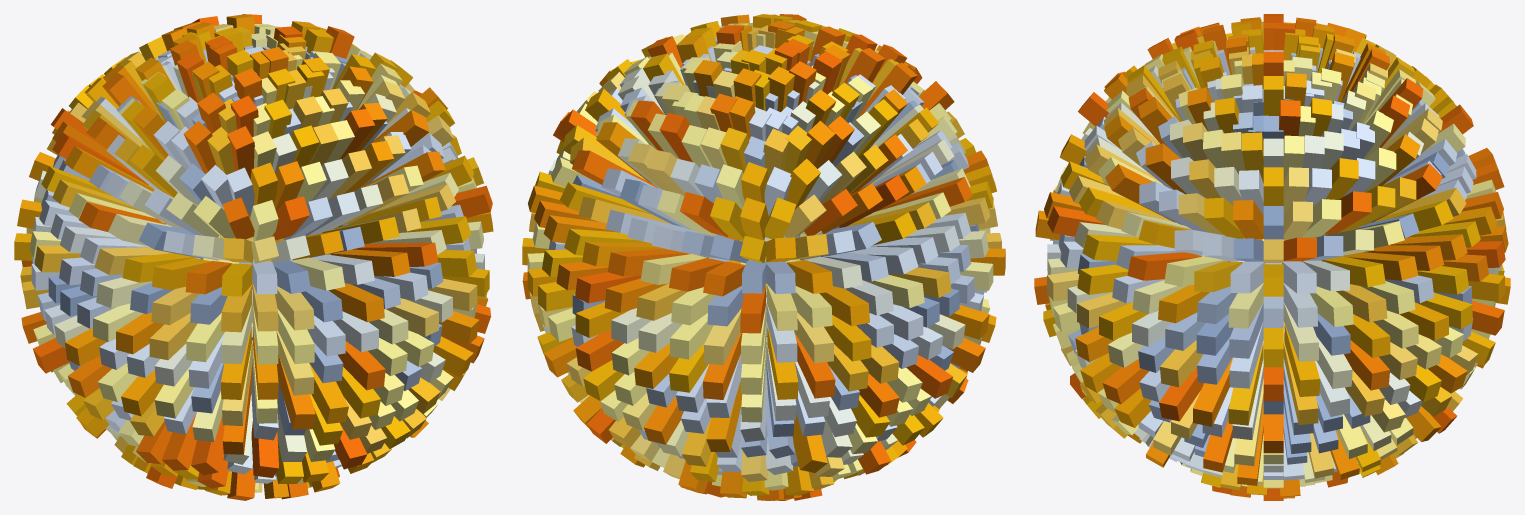
The model's file is objtask_eachcenter_dir.glb.
The picture shows the model from 3 angles, left to right: view 1: azimuth 30°, elevation 25°; view 2: azimuth 150°, elevation 25°; view 3: azimuth 270°, elevation 25°; orthographic projection.
Parts seen in each view (by area): view 1: Object_dir_0.0_-0.988_-0.156, Object_dir_0.0_-0.988_0.156, Object_dir_-0.809_-0.588_0.0, Object_dir_-0.294_-0.904_-0.309, Object_dir_0.149_-0.94_0.306, Object_dir_-0.149_-0.94_-0.306, Object_dir_-0.891_-0.454_-0.0, Object_dir_-0.799_-0.581_0.156, Object_dir_-0.305_-0.939_0.156, Object_dir_0.0_-0.951_-0.309, Object_dir_-0.707_-0.707_0.0, Object_dir_-0.848_-0.432_-0.306 (+158 smaller); view 2: Object_dir_-0.809_0.588_0.0, Object_dir_-0.699_0.699_-0.155, Object_dir_-0.799_0.581_0.156, Object_dir_-0.305_0.939_-0.156, Object_dir_0.149_0.94_0.306, Object_dir_-0.309_0.951_-0.0, Object_dir_-0.156_0.988_-0.0, Object_dir_-0.574_0.574_-0.583, Object_dir_0.0_0.988_-0.156, Object_dir_-0.707_0.707_0.0, Object_dir_0.305_0.939_-0.156, Object_dir_-0.275_0.847_-0.454 (+161 smaller); view 3: Object_dir_0.904_-0.294_-0.309, Object_dir_0.848_-0.432_-0.306, Object_dir_0.88_0.449_-0.155, Object_dir_0.891_0.454_-0.0, Object_dir_0.769_-0.559_0.309, Object_dir_0.88_-0.449_0.155, Object_dir_0.88_-0.449_-0.155, Object_dir_0.673_-0.673_-0.306, Object_dir_0.939_0.305_0.156, Object_dir_0.88_0.449_0.155, Object_dir_0.559_-0.769_0.309, Object_dir_0.94_-0.149_-0.306 (+155 smaller).
Part boxes in pixels (x1,y1,x2,y2): Object_dir_0.0_-0.988_-0.156: (338,341,385,390); Object_dir_0.0_-0.988_0.156: (329,283,384,322); Object_dir_-0.809_-0.588_0.0: (149,313,197,360); Object_dir_-0.294_-0.904_-0.309: (277,354,315,429); Object_dir_0.149_-0.94_0.306: (330,249,410,276); Object_dir_-0.149_-0.94_-0.306: (309,363,348,423); Object_dir_-0.891_-0.454_-0.0: (116,312,163,354); Object_dir_-0.799_-0.581_0.156: (151,286,199,325); Object_dir_-0.305_-0.939_0.156: (275,286,314,330); Object_dir_0.0_-0.951_-0.309: (336,367,380,418); Object_dir_-0.707_-0.707_0.0: (186,313,224,362); Object_dir_-0.848_-0.432_-0.306: (121,369,163,416); Object_dir_-0.809_0.588_0.0: (824,315,871,361); Object_dir_-0.699_0.699_-0.155: (794,333,835,398); Object_dir_-0.799_0.581_0.156: (819,286,869,326); Object_dir_-0.305_0.939_-0.156: (703,333,742,399); Object_dir_0.149_0.94_0.306: (607,249,687,276); Object_dir_-0.309_0.951_-0.0: (704,309,741,364); Object_dir_-0.156_0.988_-0.0: (670,313,713,359); Object_dir_-0.574_0.574_-0.583: (792,413,827,472); Object_dir_0.0_0.988_-0.156: (634,343,678,388); Object_dir_-0.707_0.707_0.0: (794,312,833,363); Object_dir_0.305_0.939_-0.156: (575,330,623,371); Object_dir_-0.275_0.847_-0.454: (706,380,742,451); Object_dir_0.904_-0.294_-0.309: (1193,357,1232,426); Object_dir_0.848_-0.432_-0.306: (1159,367,1203,421); Object_dir_0.88_0.449_-0.155: (1344,340,1389,390); Object_dir_0.891_0.454_-0.0: (1344,314,1390,357); Object_dir_0.769_-0.559_0.309: (1127,252,1201,280); Object_dir_0.88_-0.449_0.155: (1158,284,1209,323); Object_dir_0.88_-0.449_-0.155: (1160,340,1203,387); Object_dir_0.673_-0.673_-0.306: (1102,359,1149,404); Object_dir_0.939_0.305_0.156: (1310,286,1353,326); Object_dir_0.88_0.449_0.155: (1336,284,1387,322); Object_dir_0.559_-0.769_0.309: (1082,234,1156,261); Object_dir_0.94_-0.149_-0.306: (1228,343,1263,425).
Size of the model in its own units: 28.36 by 28.74 by 28.46.
